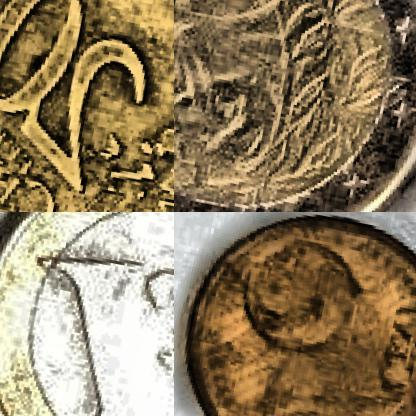coin: (174, 0, 415, 211), (174, 212, 415, 415), (0, 0, 173, 211), (0, 212, 173, 415)
